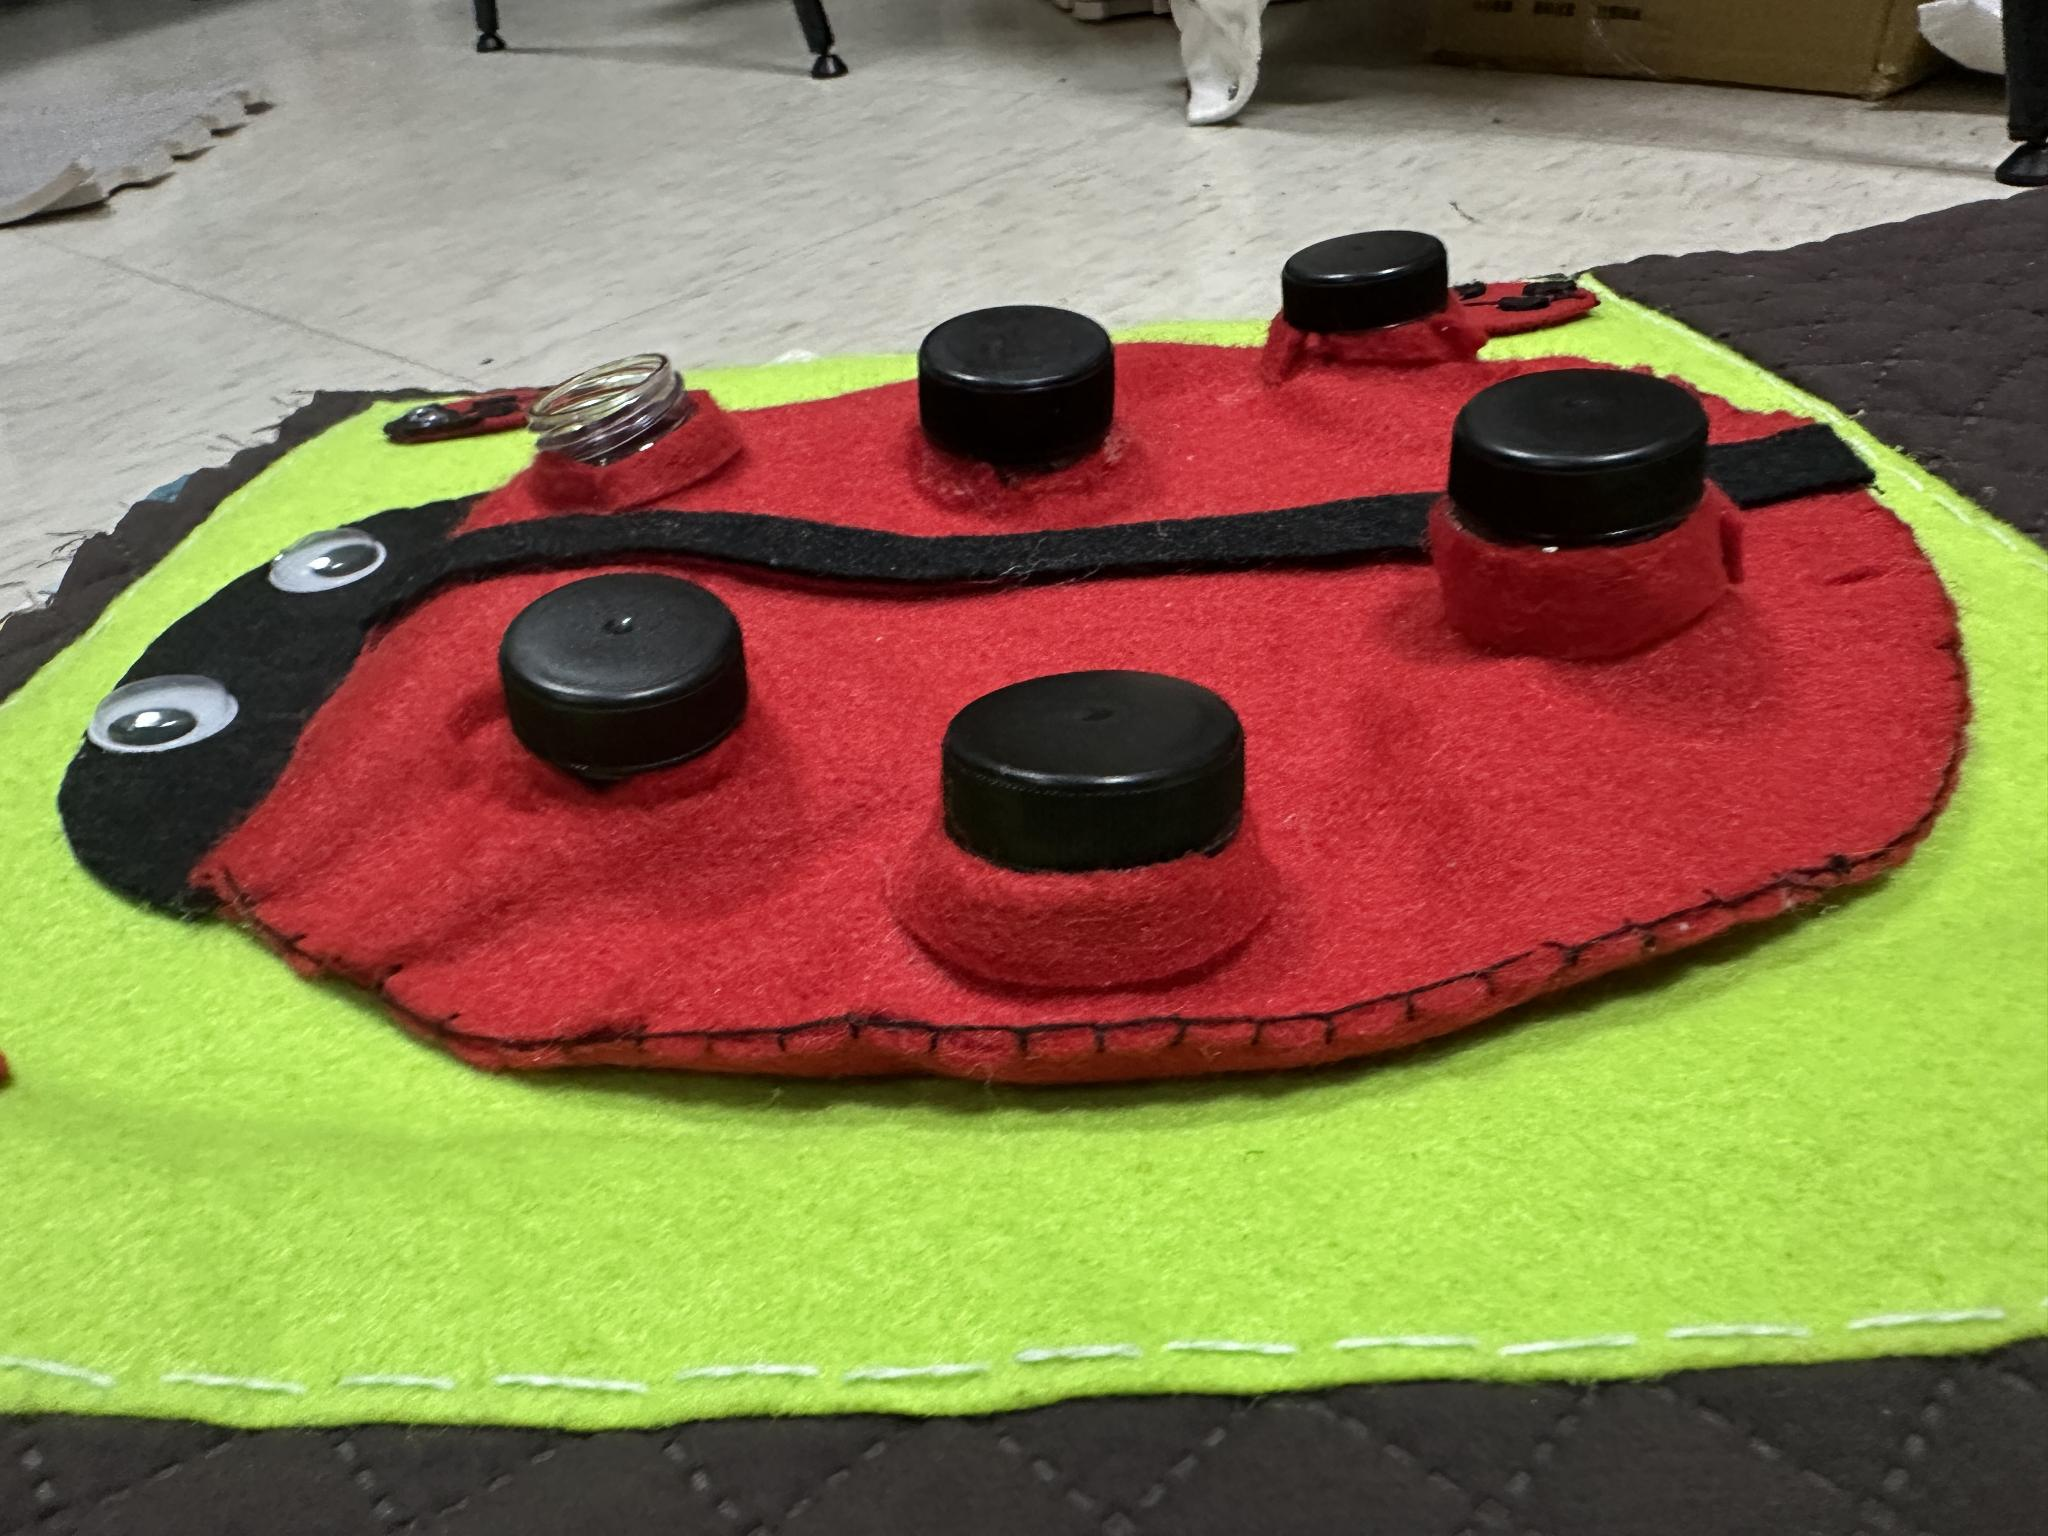cap_ok: (894, 660, 1292, 992), (1425, 356, 1773, 664), (488, 567, 780, 817), (902, 290, 1160, 514), (1250, 206, 1490, 380)
